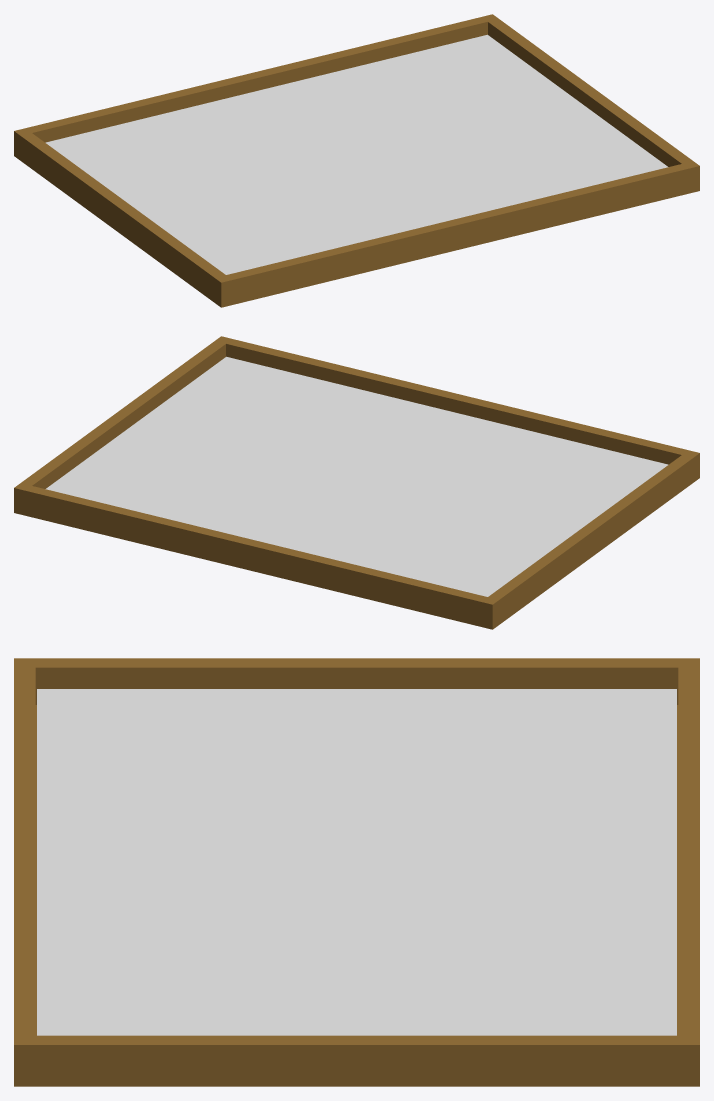
Rendered from frame3x4.fbx.
3 views of the same model, one above another, from view 1: azimuth 30°, elevation 25°; view 2: azimuth 150°, elevation 25°; view 3: azimuth 270°, elevation 25° (orthographic). The views are drawn at different scales.
Visible parts, largest first — view 1: canvas3x4, frame3x4; view 2: canvas3x4, frame3x4; view 3: canvas3x4, frame3x4.
Boxes of the visible parts, bbox=[...] form: canvas3x4: bbox=[45, 34, 668, 274]; frame3x4: bbox=[14, 14, 699, 307]; canvas3x4: bbox=[45, 356, 668, 596]; frame3x4: bbox=[14, 336, 699, 629]; canvas3x4: bbox=[37, 689, 676, 1035]; frame3x4: bbox=[14, 658, 699, 1086].
Bounding box in the file's own units: 400 × 20 × 300.
